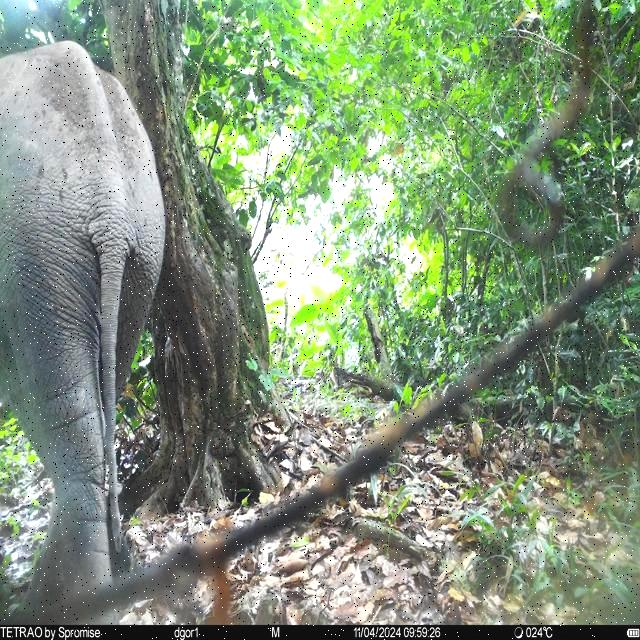elephant: (0, 40, 168, 626)
